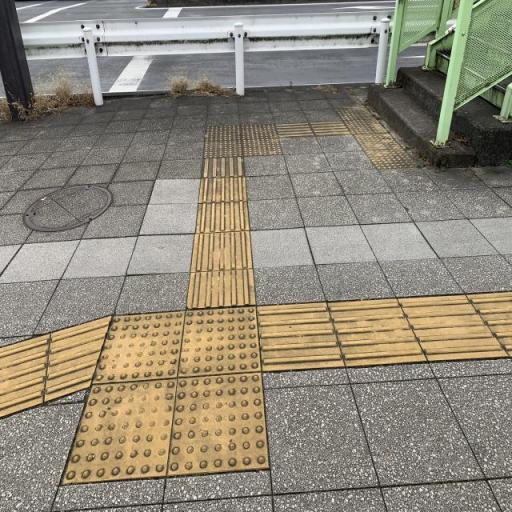dot: (58, 379, 176, 484), (167, 372, 267, 475), (93, 311, 185, 383), (177, 306, 263, 378)
line: (398, 294, 507, 361), (327, 299, 428, 366), (255, 302, 345, 371), (45, 316, 113, 403), (0, 334, 51, 420), (185, 269, 255, 307), (191, 231, 254, 273), (195, 201, 250, 233), (198, 177, 246, 203), (200, 157, 245, 178)
